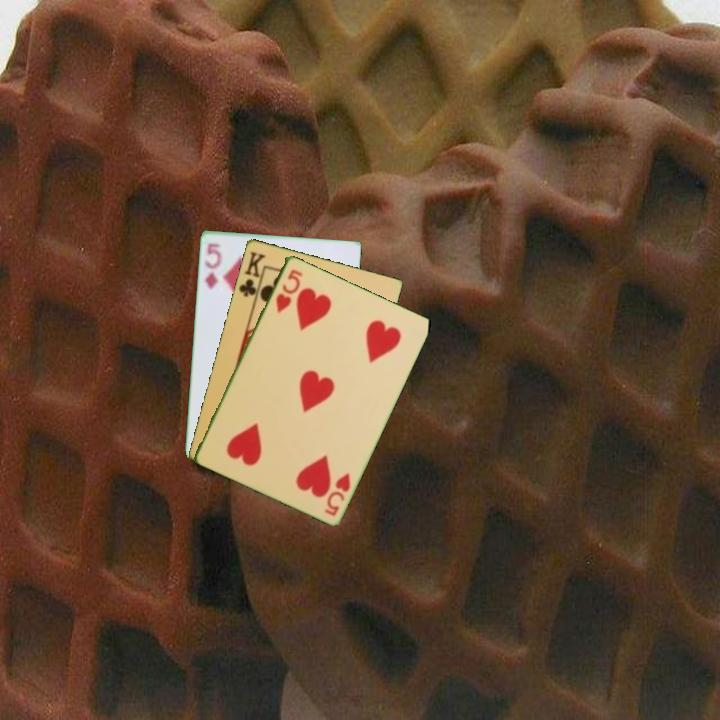5d: (201, 239, 224, 292)
5h: (272, 265, 305, 315), (321, 469, 353, 519)
Kc: (235, 247, 268, 304)
